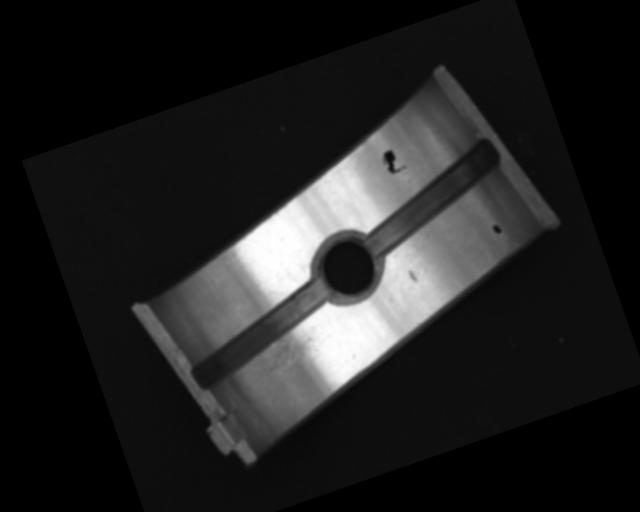blot: (379, 145, 407, 176), (490, 222, 503, 235)
bruise: (406, 267, 418, 283)
gap: (345, 136, 518, 259), (176, 275, 345, 390)
hole: (305, 225, 391, 311)
scratch: (227, 326, 329, 402)
